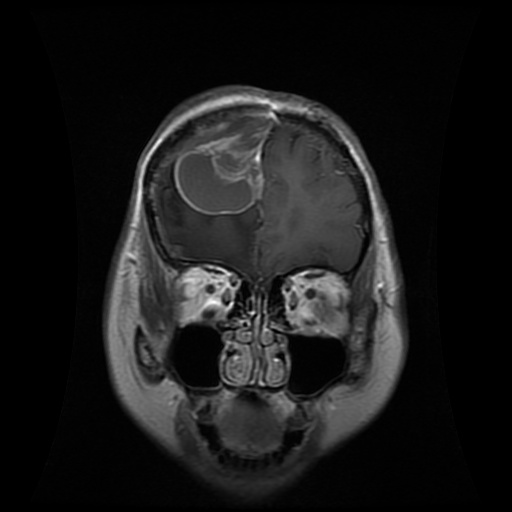glioma: (174, 117, 273, 215)
